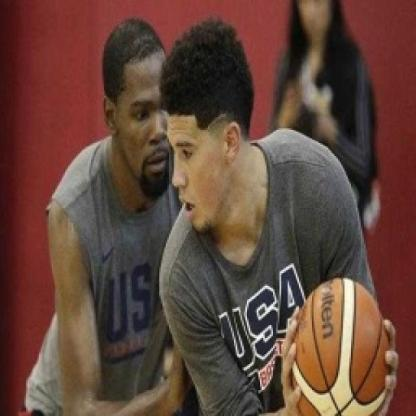basketball: (282, 268, 395, 416)
